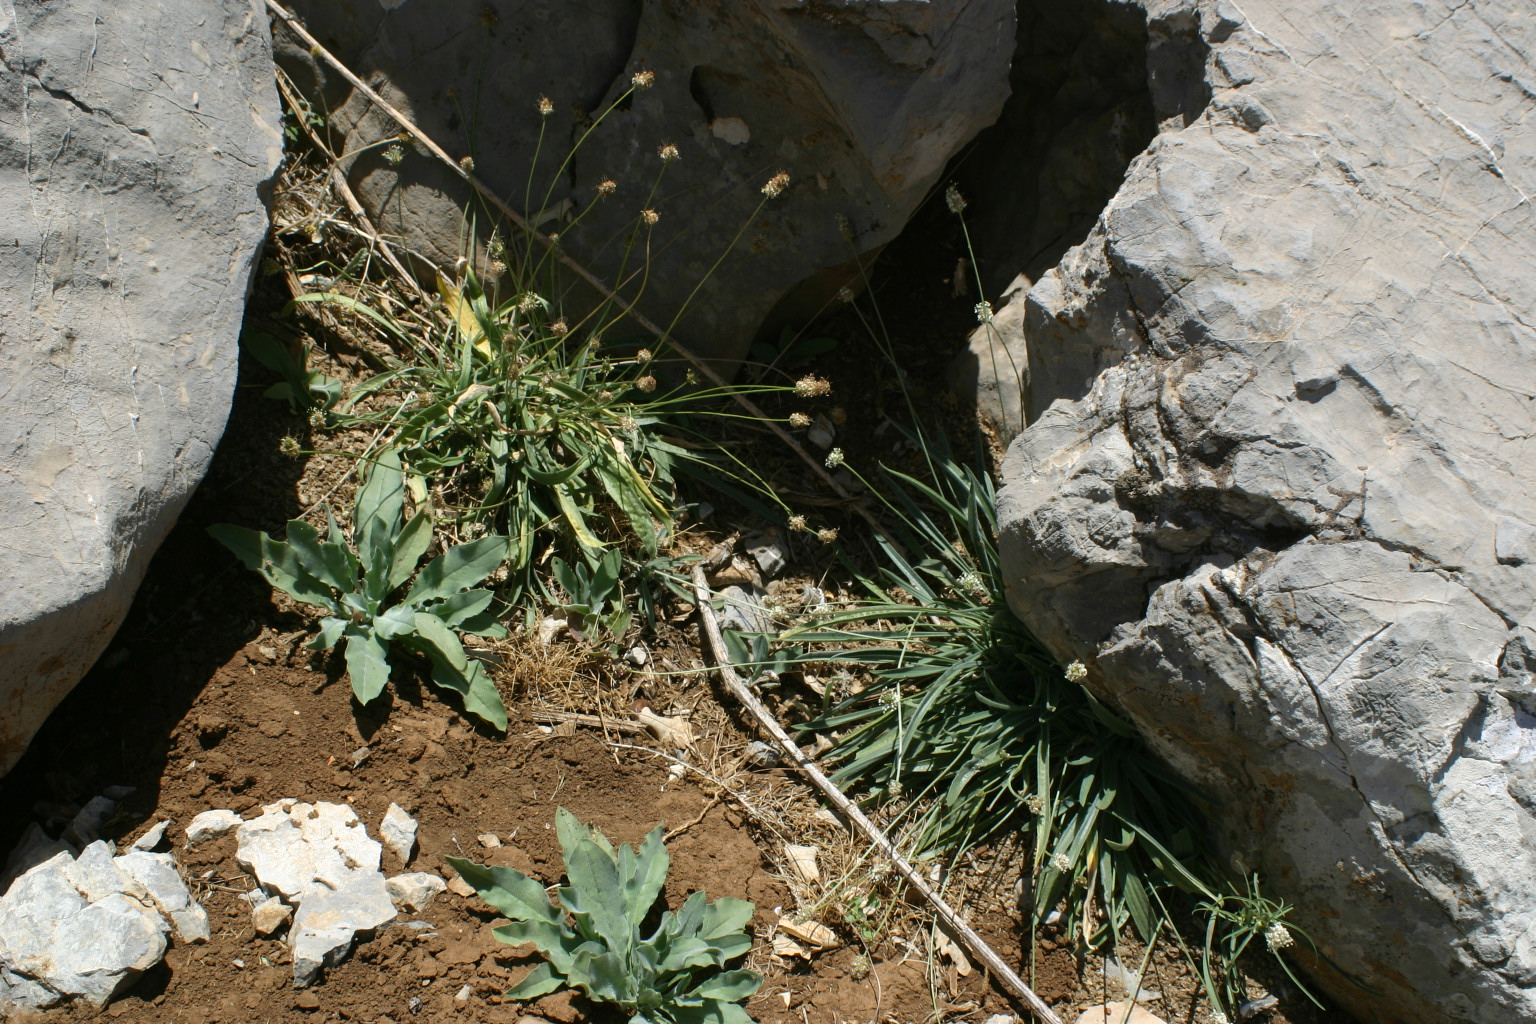buckhorn plantain: (344, 58, 737, 568)
